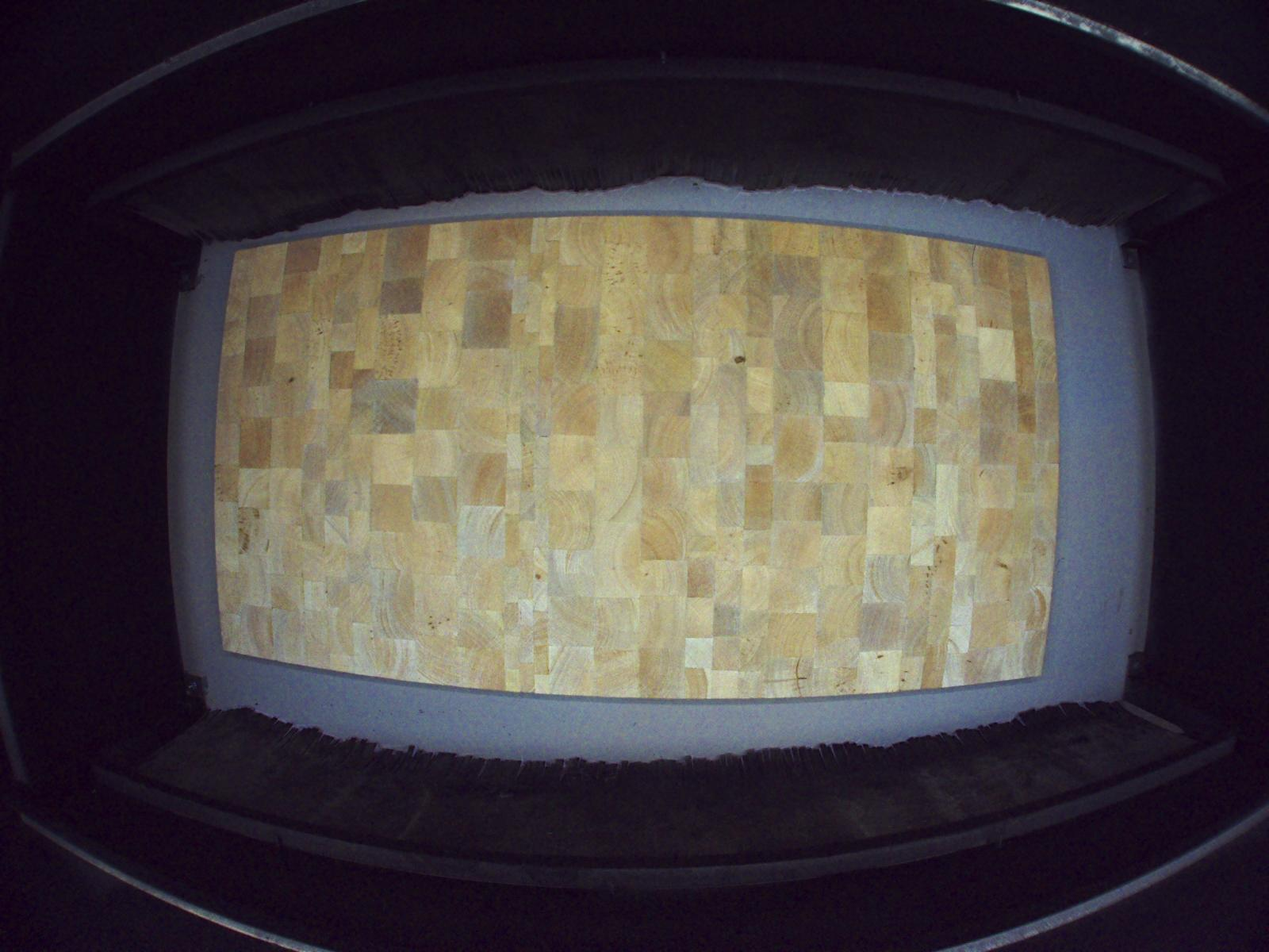sheck_ecuatoriano: (794, 656, 808, 697), (732, 343, 747, 367)
